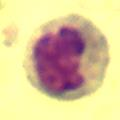monocyte: (26, 12, 110, 100)
